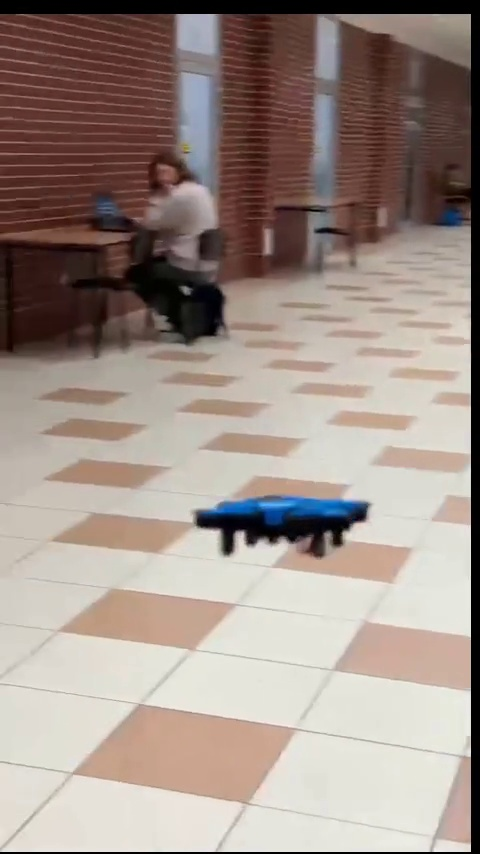drone: (196, 498, 377, 555)
no vest: (132, 153, 223, 332)
